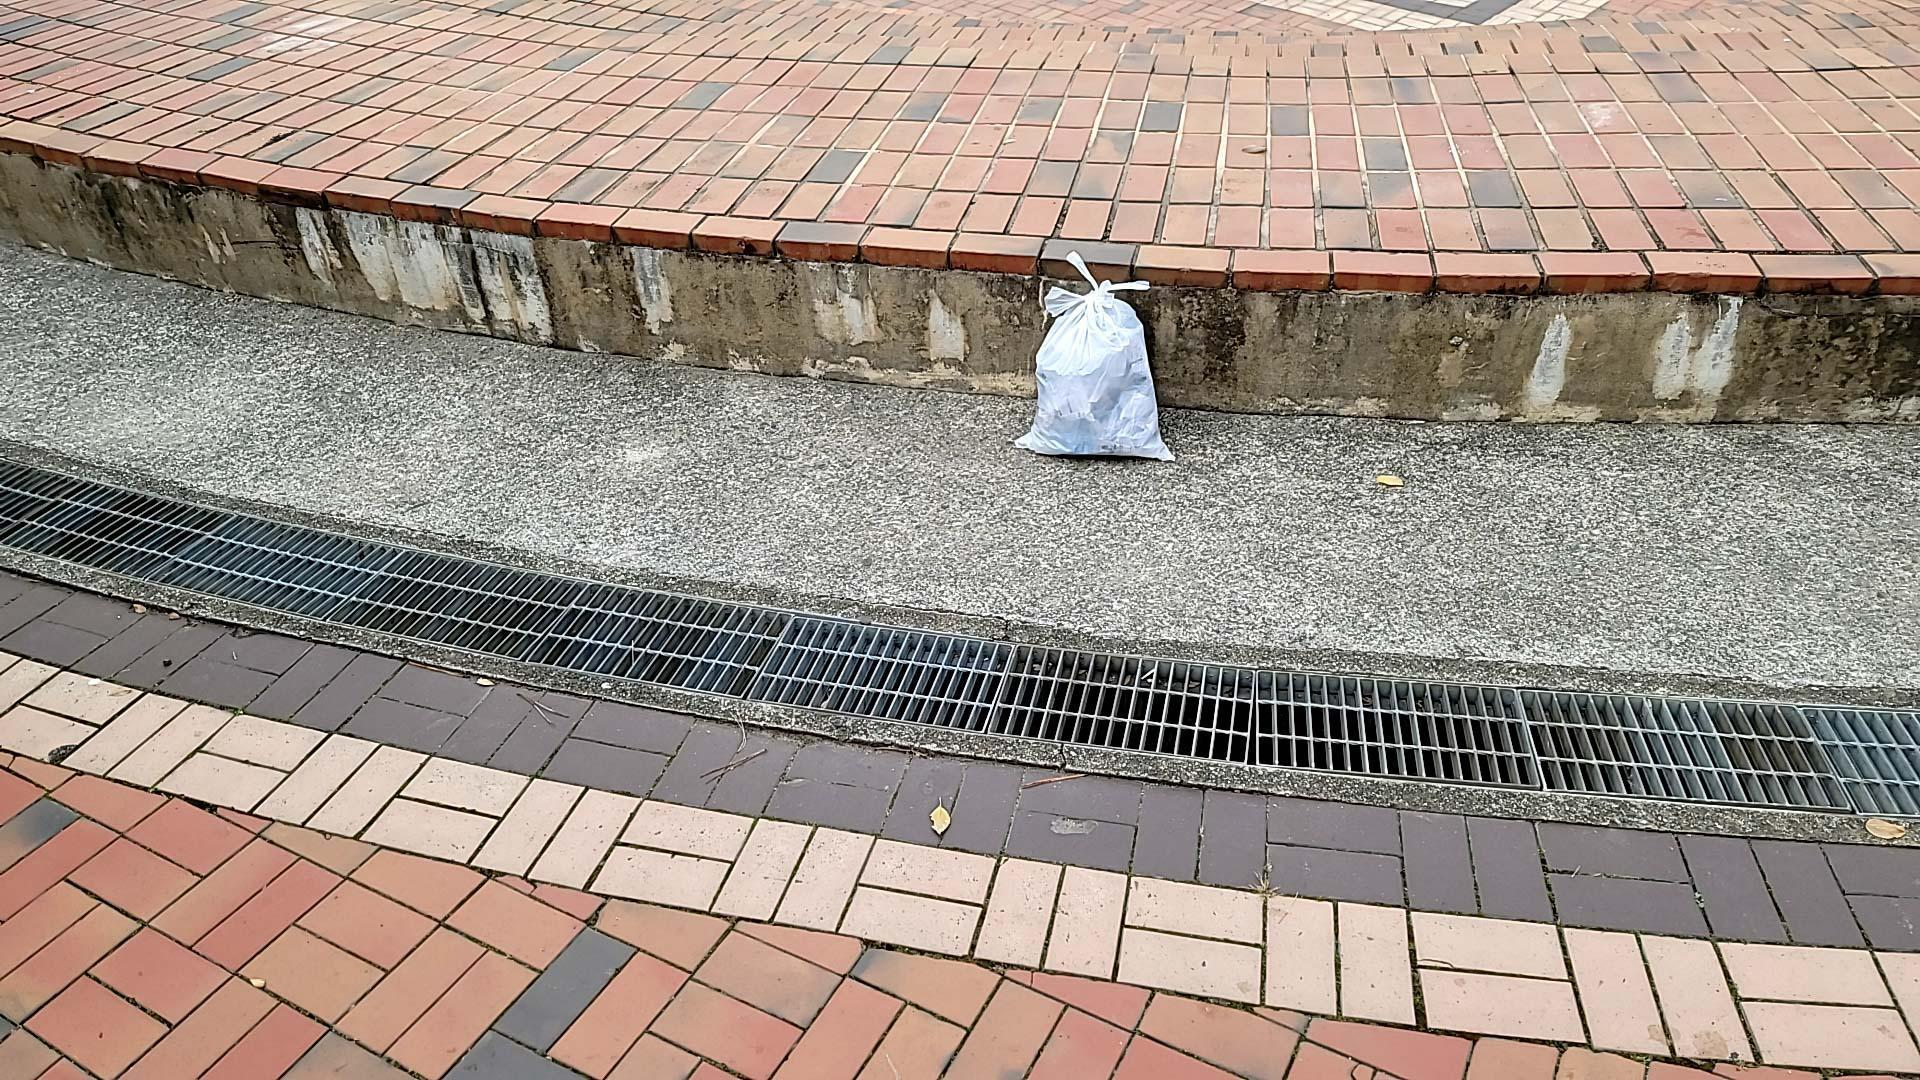white_bag: (996, 240, 1183, 471)
